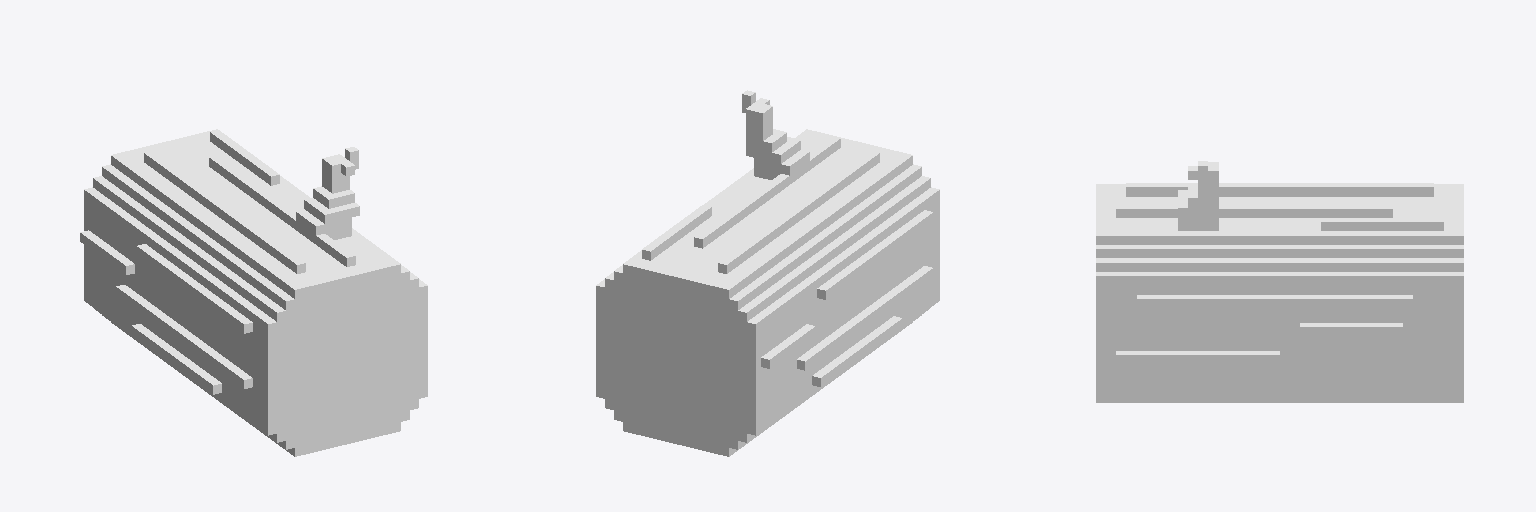
The model's file is BigLogSprout.obj.
3 views of the same model, side by side, from view 1: azimuth 30°, elevation 25°; view 2: azimuth 150°, elevation 25°; view 3: azimuth 270°, elevation 25° (orthographic).
Visible parts, largest first — view 1: BigLogSprout; view 2: BigLogSprout; view 3: BigLogSprout.
Part boxes in pixels (x1,y1,x2,y2): BigLogSprout: (80,129,427,456); BigLogSprout: (596,90,939,456); BigLogSprout: (1096,161,1463,402).
Size of the model in its own units: 20 by 26 by 36.